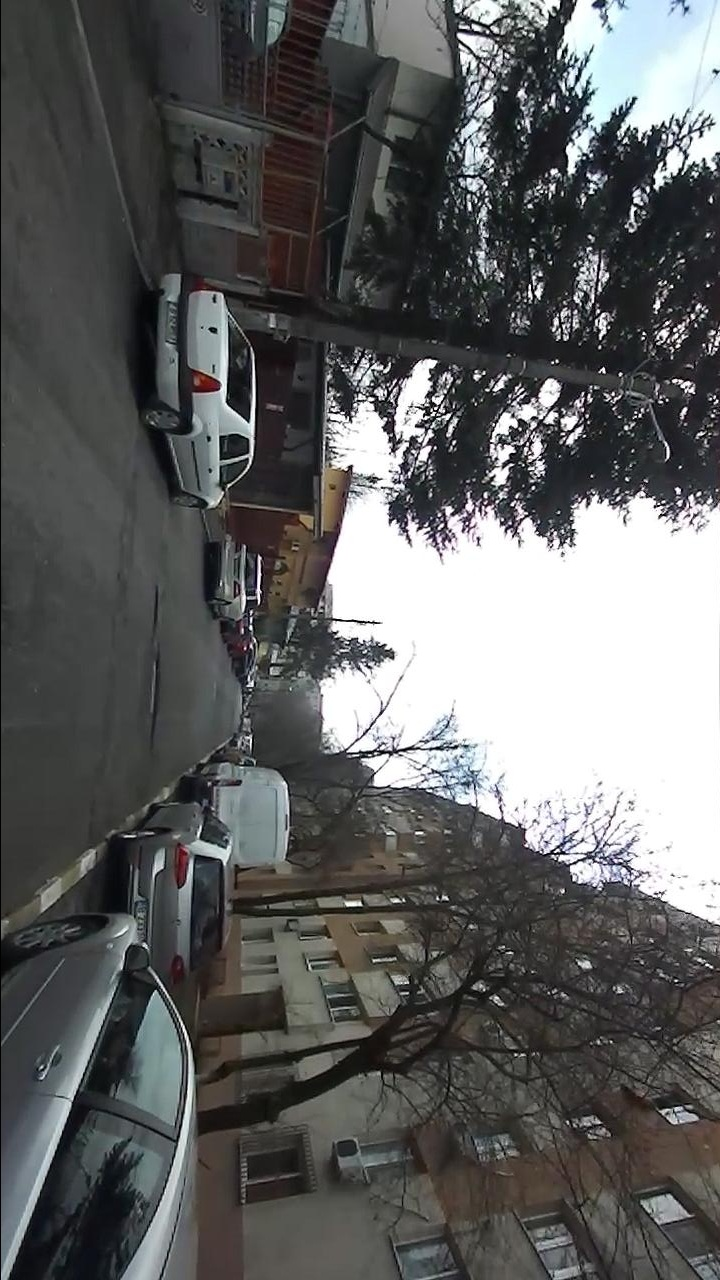pothole: (147, 657, 160, 738), (151, 587, 158, 628)
